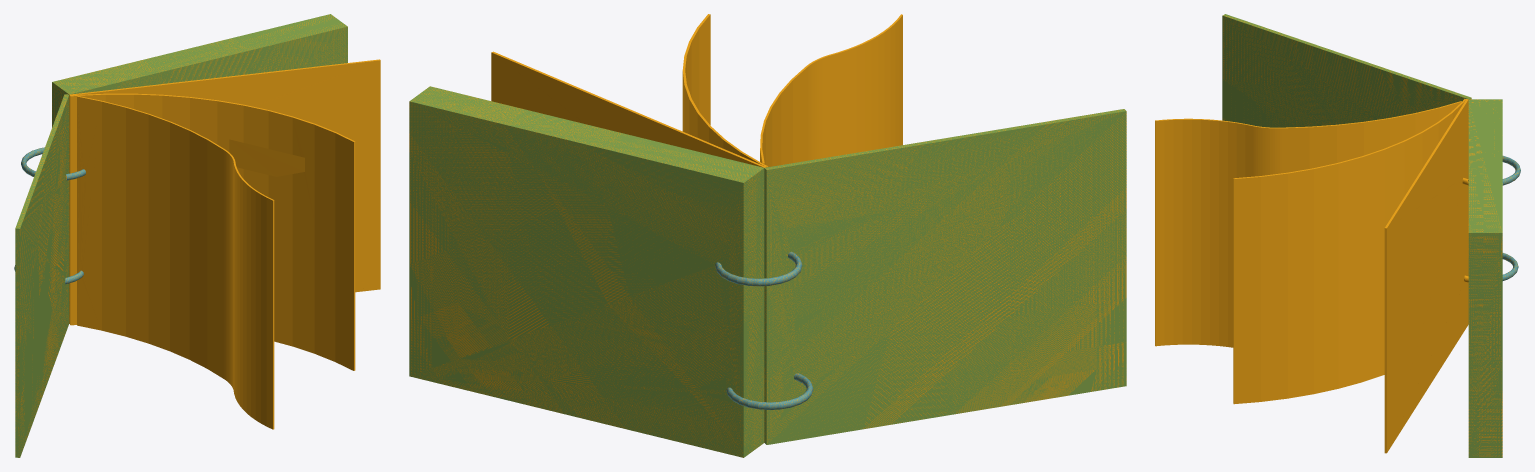
3 views of the same model, side by side, from view 1: azimuth 30°, elevation 25°; view 2: azimuth 150°, elevation 25°; view 3: azimuth 270°, elevation 25° (orthographic). The views are drawn at different scales.
Visible parts, largest first — view 1: caderno de anota ccedil oes notebook; view 2: caderno de anota ccedil oes notebook; view 3: caderno de anota ccedil oes notebook.
Boxes of the visible parts, left/top/right/bottom form: caderno de anota ccedil oes notebook: left=14, top=14, right=380, bottom=457; caderno de anota ccedil oes notebook: left=409, top=14, right=1126, bottom=457; caderno de anota ccedil oes notebook: left=1155, top=14, right=1520, bottom=457.
Size of the model in its own units: 18.06 by 8.66 by 12.76.
